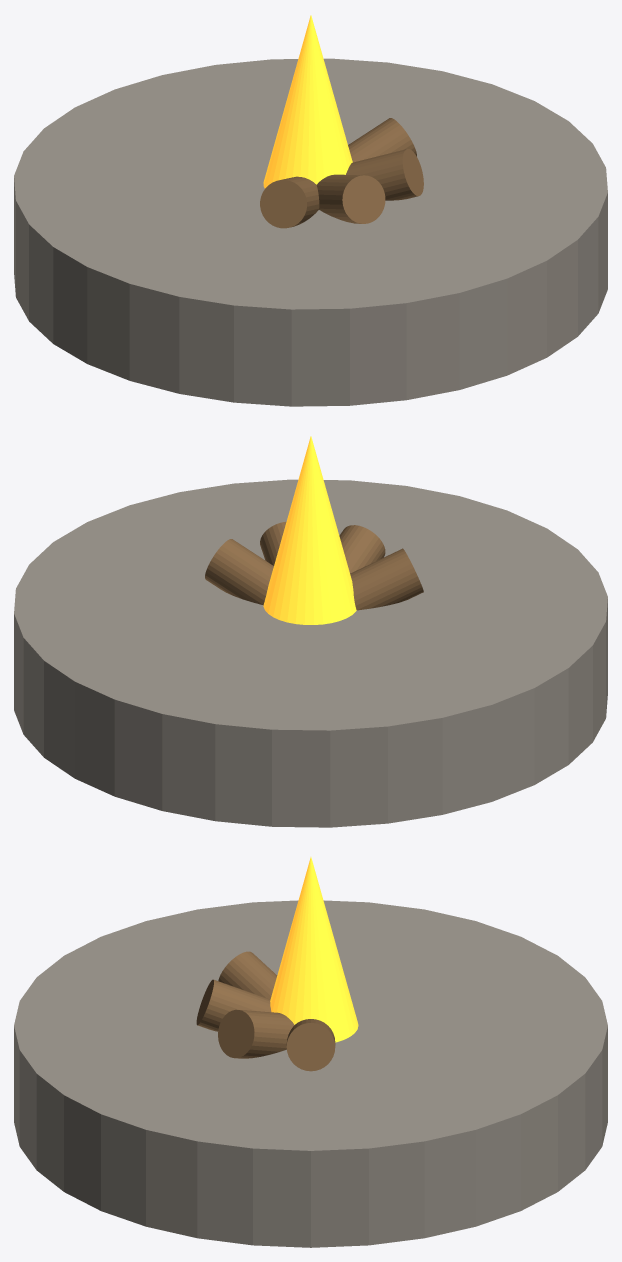
File: campfire-claudesonnet46.glb
3 renders of one model, top to bottom at view 1: azimuth 30°, elevation 25°; view 2: azimuth 150°, elevation 25°; view 3: azimuth 270°, elevation 25°, orthographic.
Visible parts, largest first — view 1: Campfire; view 2: Campfire; view 3: Campfire.
Part boxes in pixels (x1,y1,x2,y2): Campfire: (14, 15, 607, 406); Campfire: (14, 436, 607, 827); Campfire: (14, 857, 607, 1247).
Bounding box in the file's own units: 1.1 × 0.55 × 1.1.
